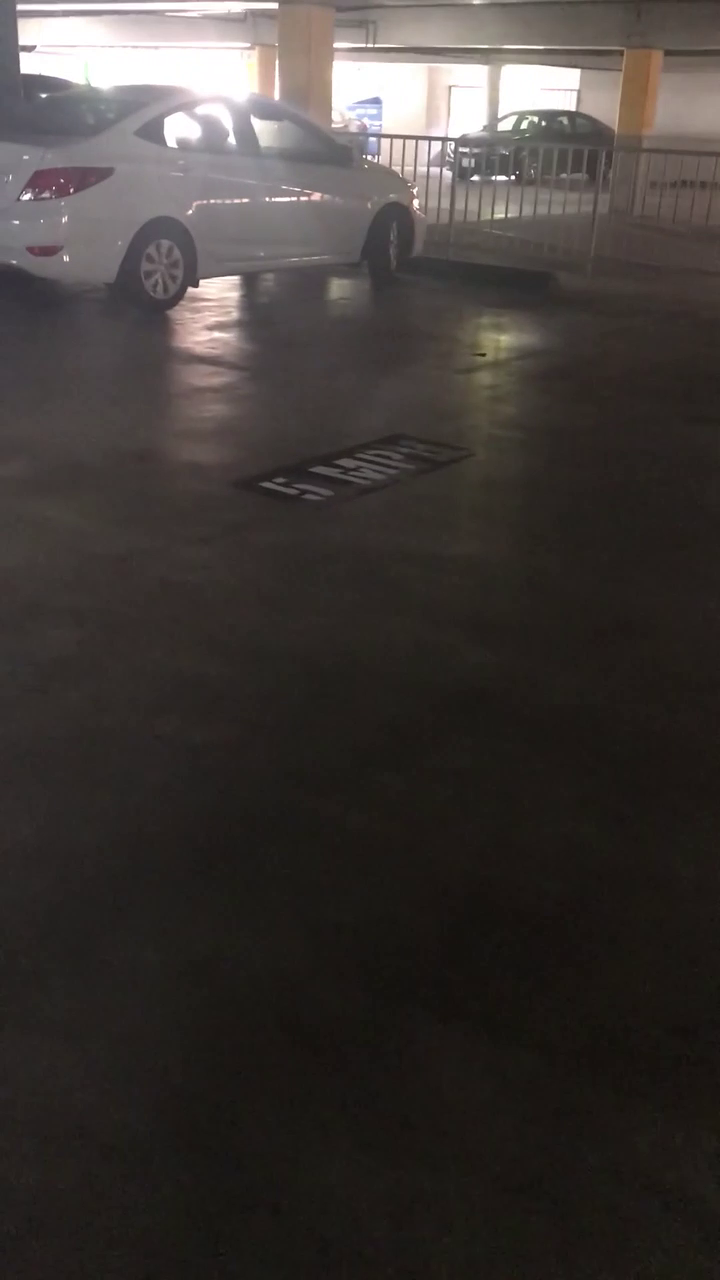car: (0, 66, 411, 321)
